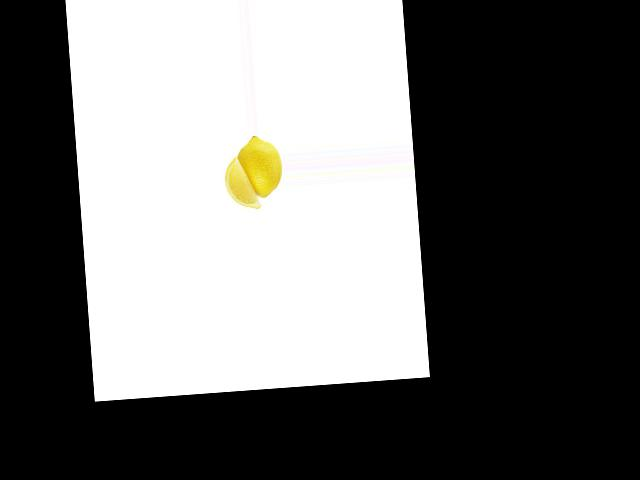lemon: (234, 132, 283, 203)
